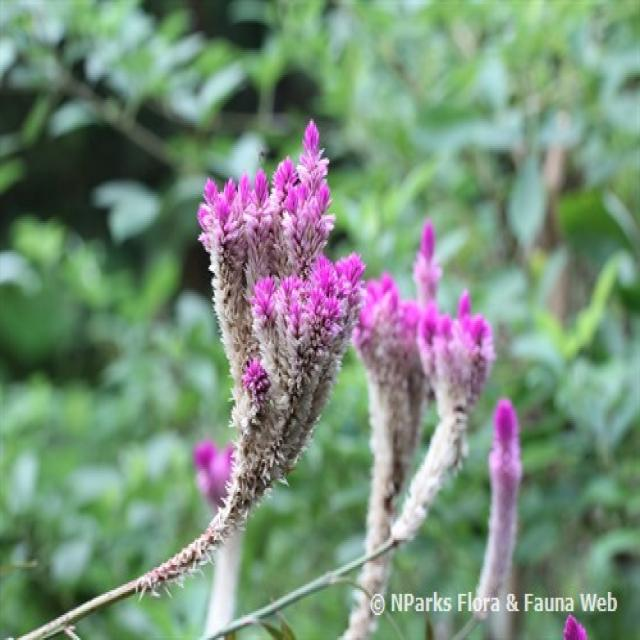Celosia-Argentea: (352, 217, 522, 632), (196, 117, 367, 479)
